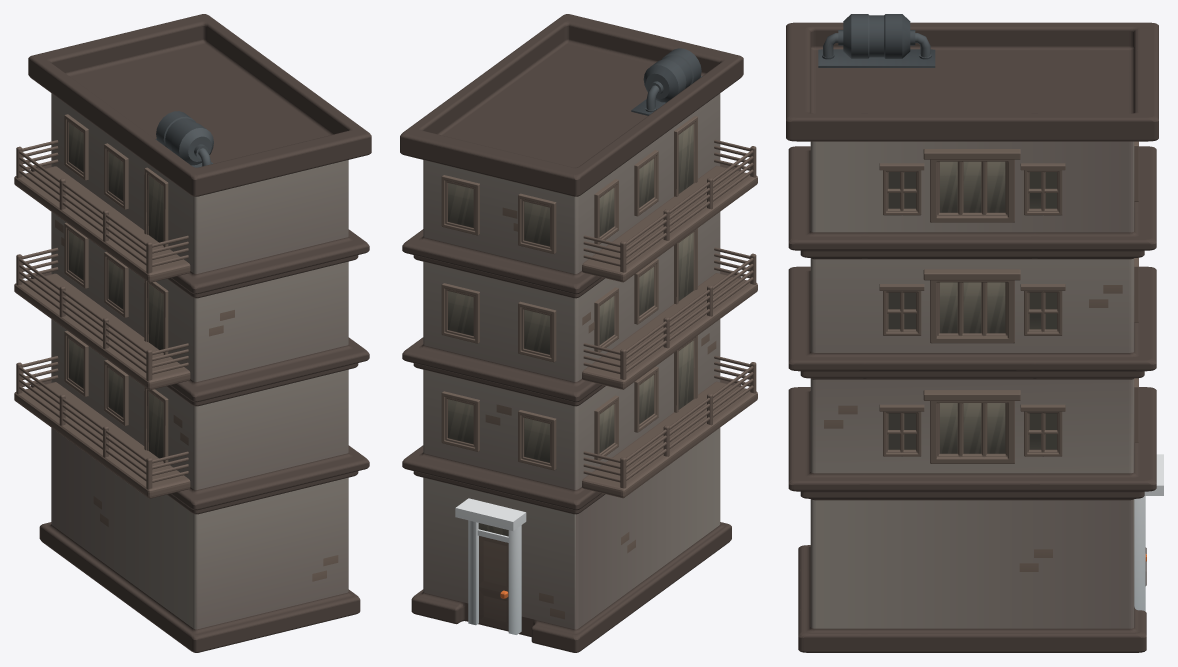
The model's file is EDIFICIO MARRON.fbx.
3 views of the same model, side by side, from view 1: azimuth 30°, elevation 25°; view 2: azimuth 150°, elevation 25°; view 3: azimuth 270°, elevation 25° (orthographic). The views are drawn at different scales.
Visible parts, largest first — view 1: Cube.012; view 2: Cube.012; view 3: Cube.012.
Part boxes in pixels (x1,y1,x2,y2): Cube.012: (14,14,371,652); Cube.012: (400,14,757,652); Cube.012: (786,14,1163,652).
Size of the model in its own units: 1214 by 1703 by 2792.
Materials: 6 (6 with a texture image).
